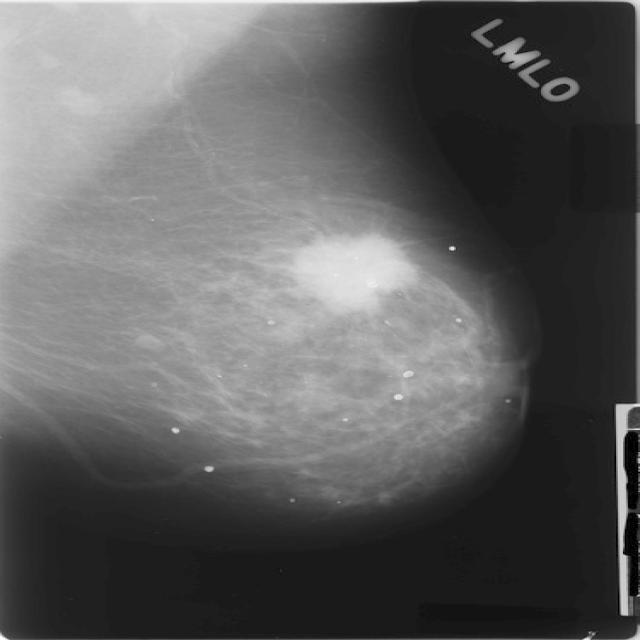tumour: (288, 230, 416, 312)
